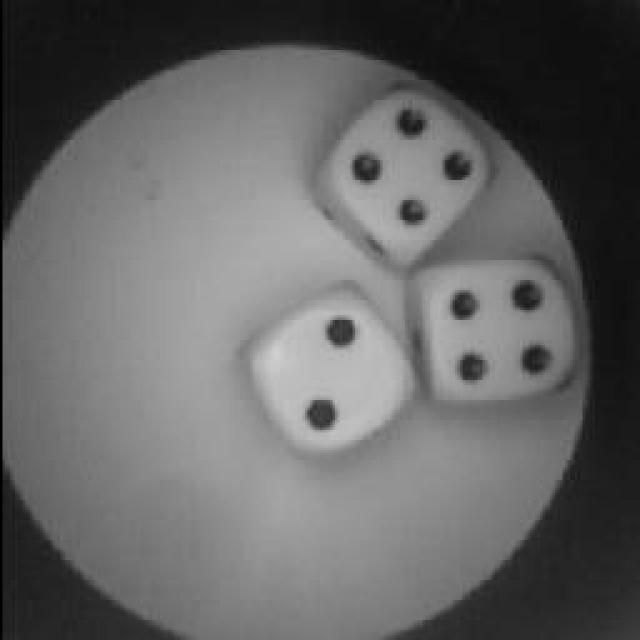dice_2: (248, 292, 410, 460)
dice_4: (312, 88, 488, 248), (412, 252, 570, 412)
